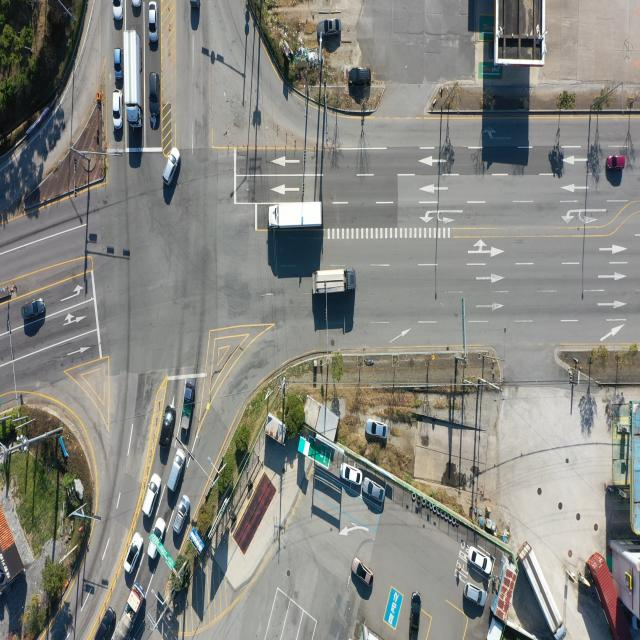car: (167, 447, 186, 492), (142, 472, 161, 516), (125, 532, 144, 574), (172, 494, 191, 534), (148, 516, 165, 558), (164, 148, 181, 186), (96, 606, 115, 640), (469, 546, 491, 575), (352, 558, 373, 586), (162, 408, 176, 449), (465, 584, 487, 609), (362, 479, 384, 504), (149, 72, 160, 116), (342, 462, 363, 484), (22, 301, 45, 321), (365, 420, 387, 440), (411, 592, 422, 632), (318, 18, 340, 38), (148, 3, 158, 43), (113, 90, 123, 127), (351, 67, 371, 85), (355, 63, 376, 80), (606, 156, 626, 172), (114, 48, 122, 79), (112, 0, 124, 20), (133, 0, 142, 15)
medium_truck: (522, 541, 567, 637), (126, 31, 144, 129), (114, 585, 146, 640), (268, 202, 324, 231), (313, 271, 355, 296)
small_truck: (180, 380, 194, 433)
